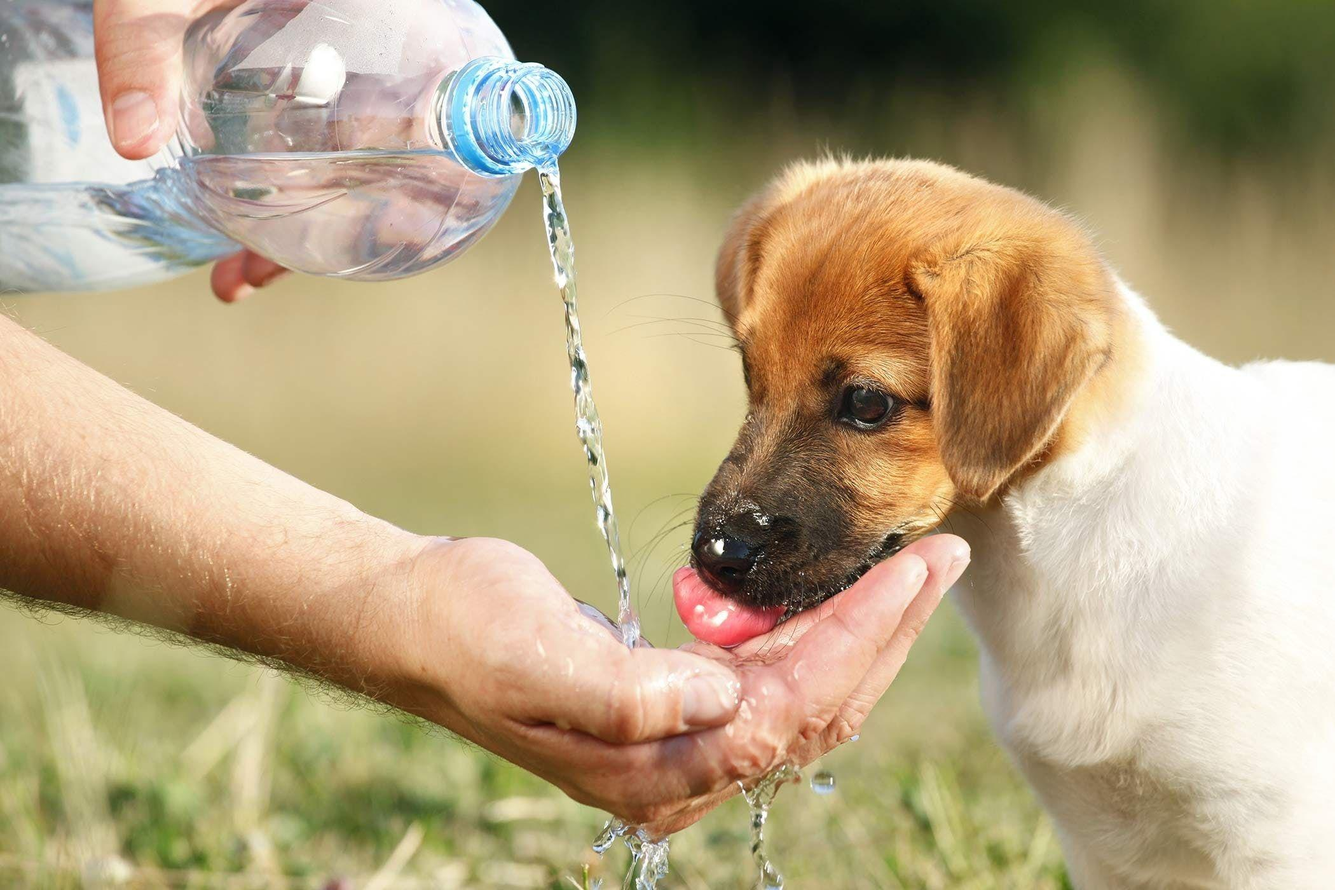puppy-dog: (670, 153, 1335, 883)
